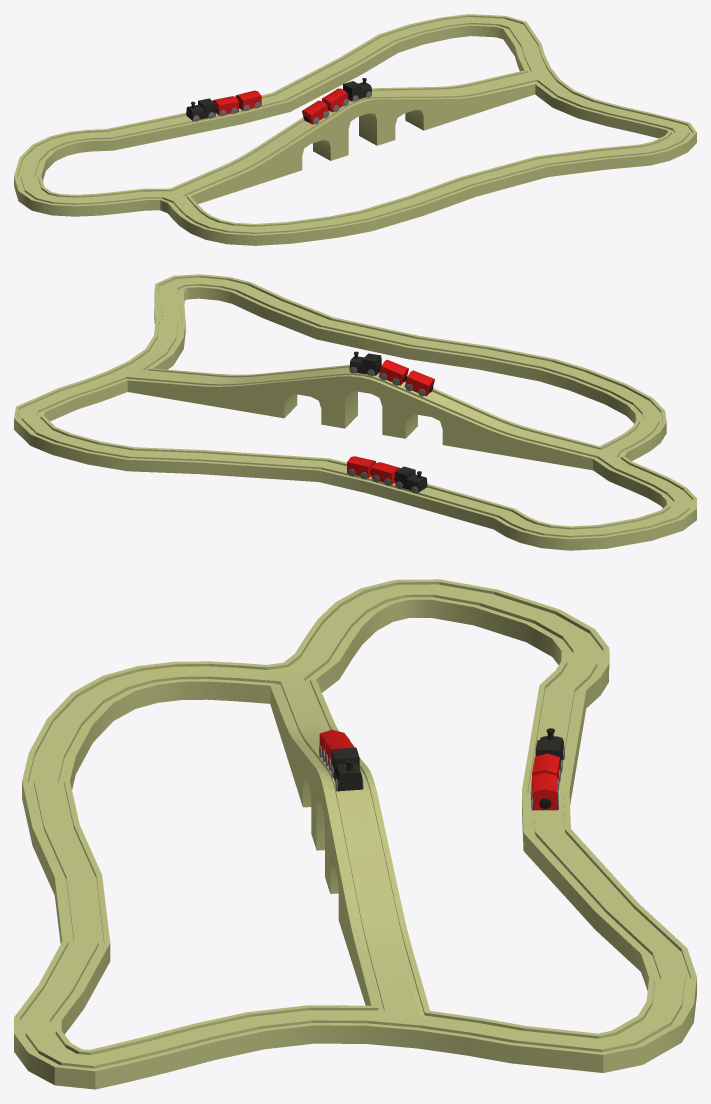
The model's file is Toy_Train_and_Track.fbx.
3 renders of one model, top to bottom at view 1: azimuth 30°, elevation 25°; view 2: azimuth 150°, elevation 25°; view 3: azimuth 270°, elevation 25°, orthographic. The views are drawn at different scales.
Visible parts, largest first — view 1: Toy_Train_and_Track; view 2: Toy_Train_and_Track; view 3: Toy_Train_and_Track.
Boxes of the visible parts, left/top/right/bottom form: Toy_Train_and_Track: left=14, top=14, right=696, bottom=245; Toy_Train_and_Track: left=14, top=274, right=696, bottom=550; Toy_Train_and_Track: left=14, top=579, right=696, bottom=1089.
Size of the model in its own units: 158 by 16.7 by 92.88.
